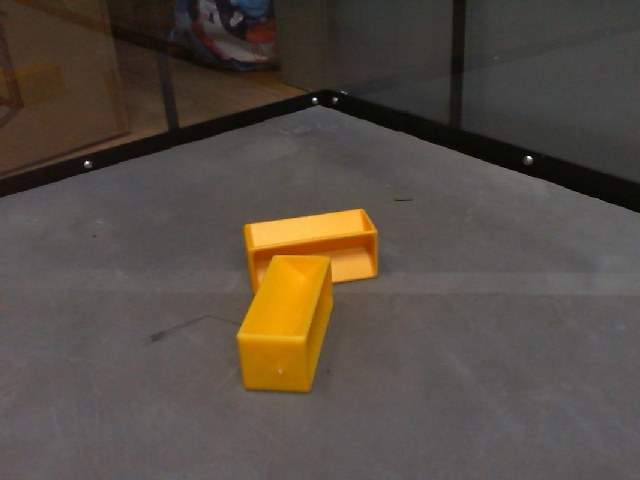YellowSample: (233, 250, 342, 395), (237, 207, 388, 294)
